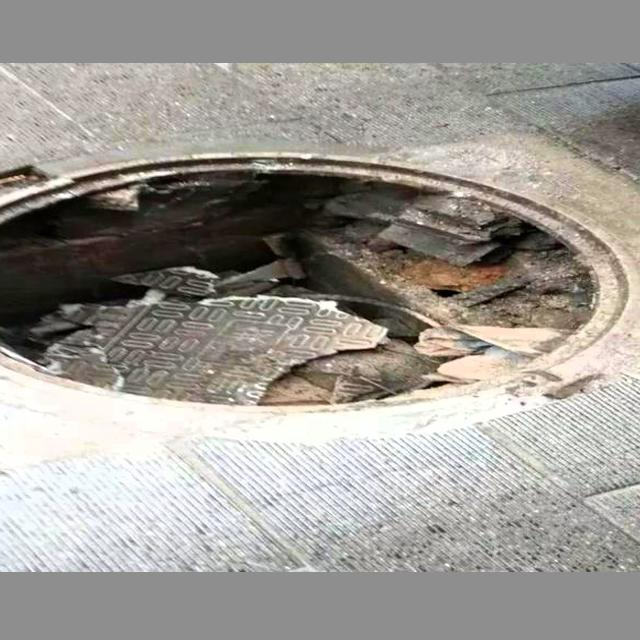broke: (0, 143, 636, 437)
